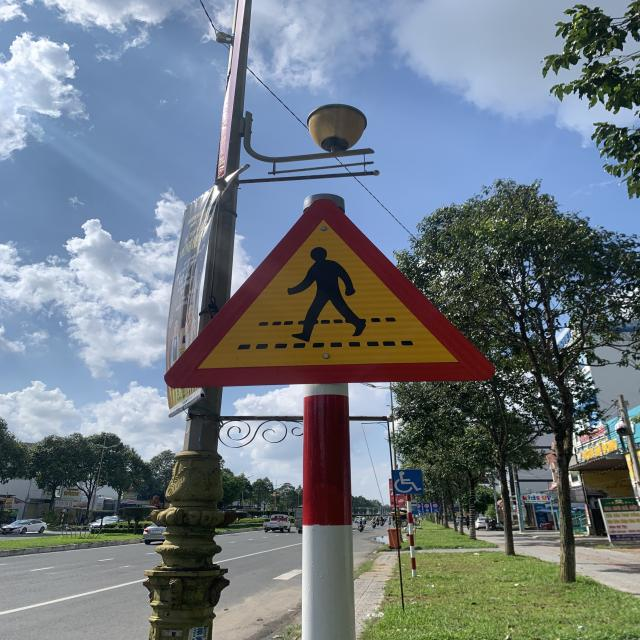Duong_Nguoi_Di_Bo_Sang_Ngang: (165, 194, 494, 386)
